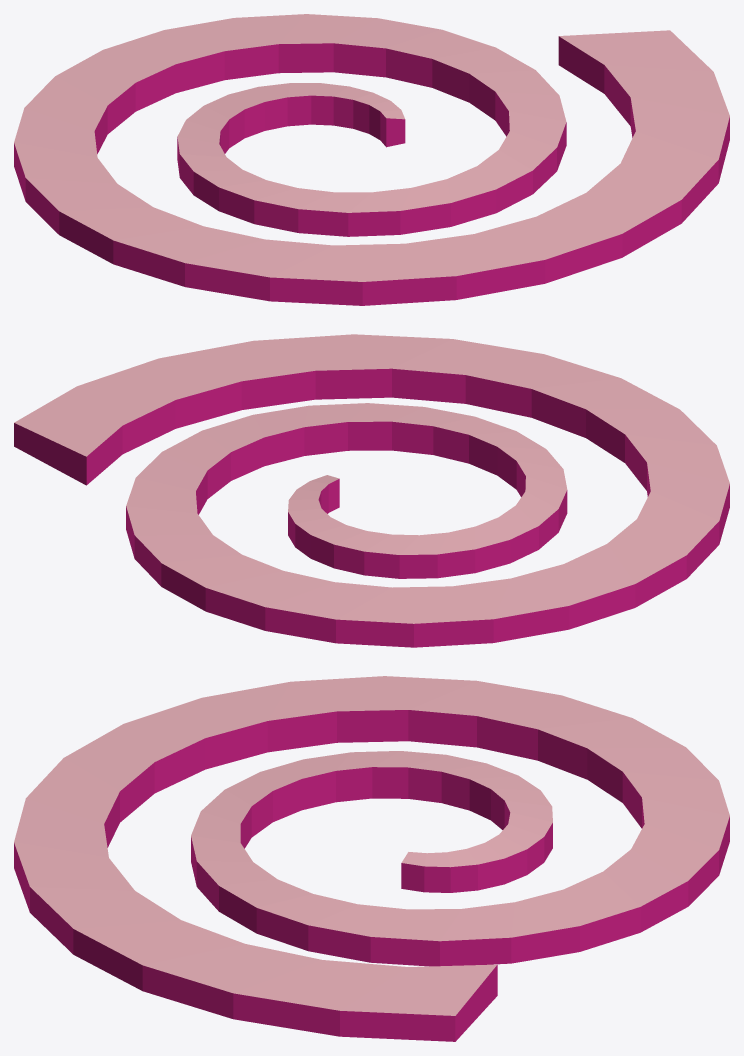
Rendered from onion.fbx.
3 renders of one model, top to bottom at view 1: azimuth 30°, elevation 25°; view 2: azimuth 150°, elevation 25°; view 3: azimuth 270°, elevation 25°, orthographic. The views are drawn at different scales.
Parts seen in each view (by area): view 1: onion; view 2: onion; view 3: onion.
Part boxes in pixels (x1,y1,x2,y2): onion: [14, 14, 729, 305]; onion: [14, 334, 729, 647]; onion: [14, 676, 729, 1041].
Size of the model in its own units: 25.38 by 1.09 by 22.59.
